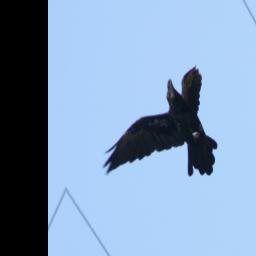Crow: (95, 64, 220, 185)
